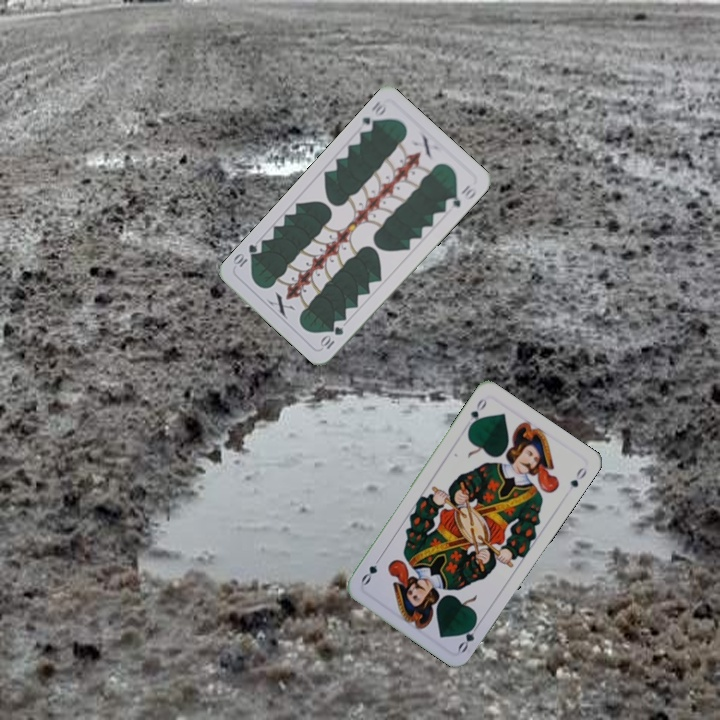G10: (358, 97, 389, 135), (316, 322, 346, 352)
GO: (454, 616, 483, 655), (464, 394, 489, 432)
